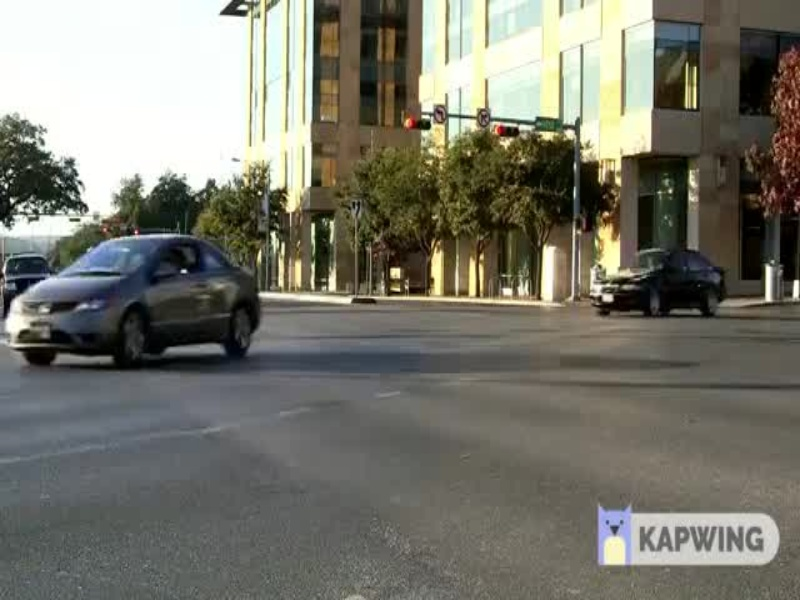car: (1, 230, 267, 359), (576, 242, 730, 326)
